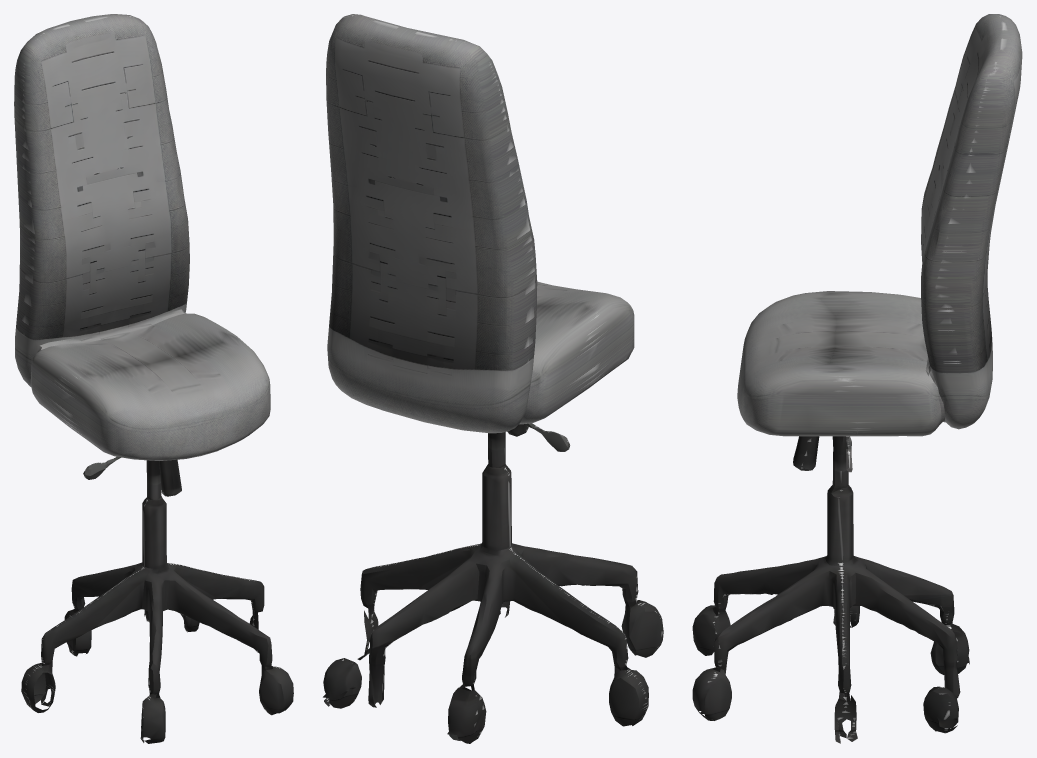
The model's file is desk-chair.glb.
3 renders of one model, left to right at view 1: azimuth 30°, elevation 25°; view 2: azimuth 150°, elevation 25°; view 3: azimuth 270°, elevation 25°, orthographic. The views are drawn at different scales.
Visible parts, largest first — view 1: Mesh_0; view 2: Mesh_0; view 3: Mesh_0.
Part boxes in pixels (x1=…): Mesh_0: x1=14, y1=14, x2=293, y2=743; Mesh_0: x1=323, y1=14, x2=663, y2=743; Mesh_0: x1=692, y1=14, x2=1022, y2=743.
Bounding box in the file's own units: 0.3902 × 0.95 × 0.4357.
1 material, 1 textured.
